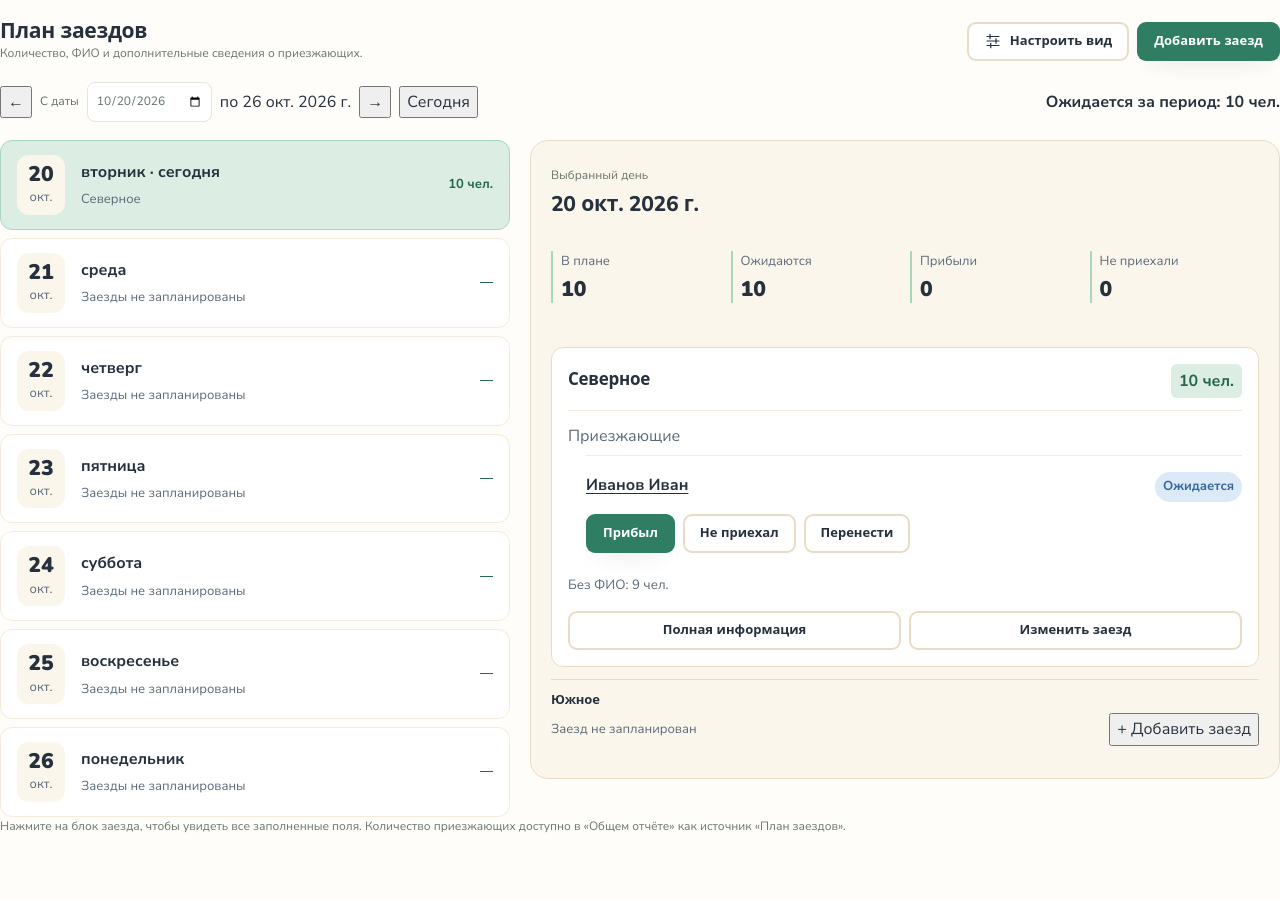
Test: следует за датой заезда при сохранении за пределами текущей недели
Click the button "Добавить заезд": (1209, 41) [1137,22,1279,61]
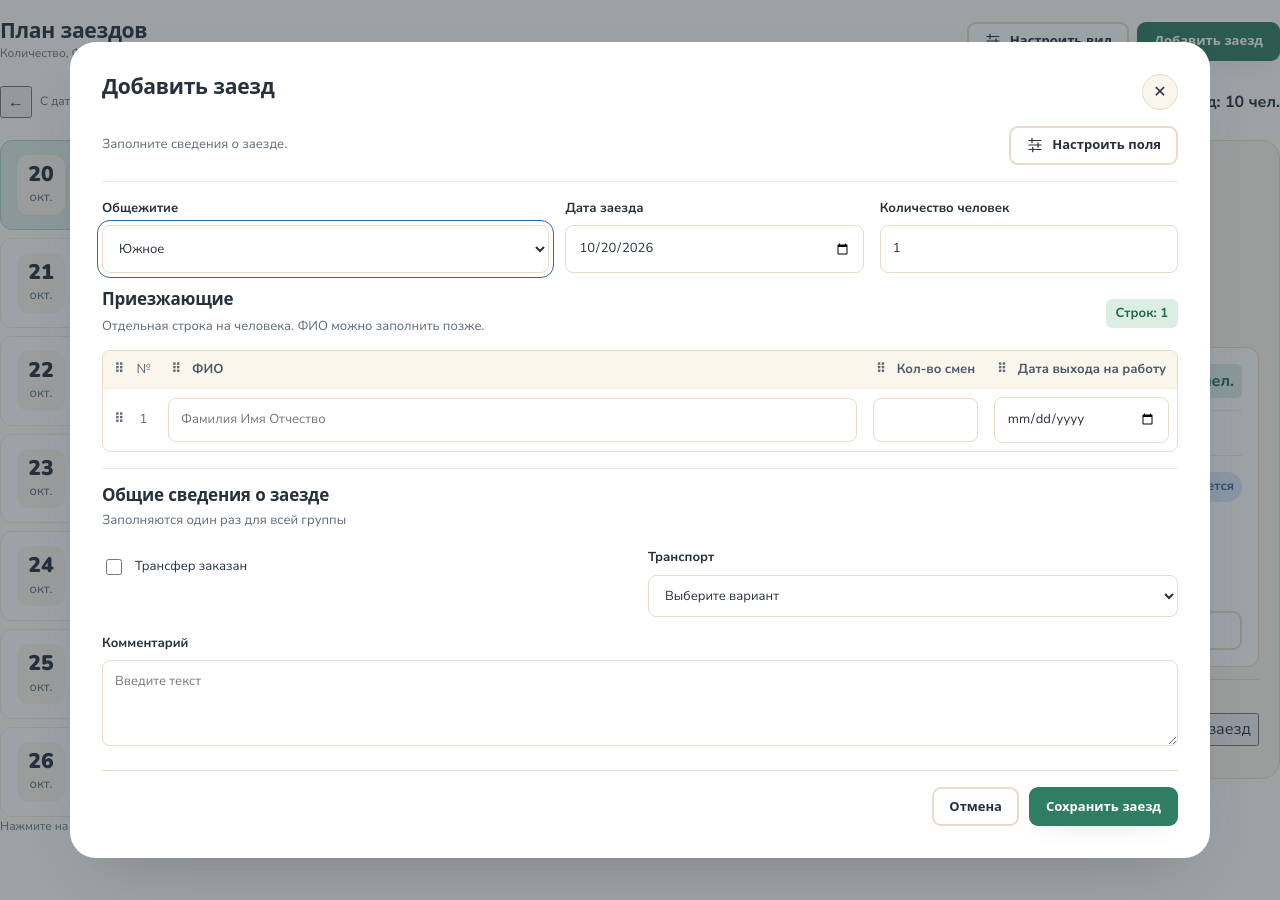
In the date field labelled "Дата заезда": (715, 249) [565,225,864,273], type "2026-11-02"
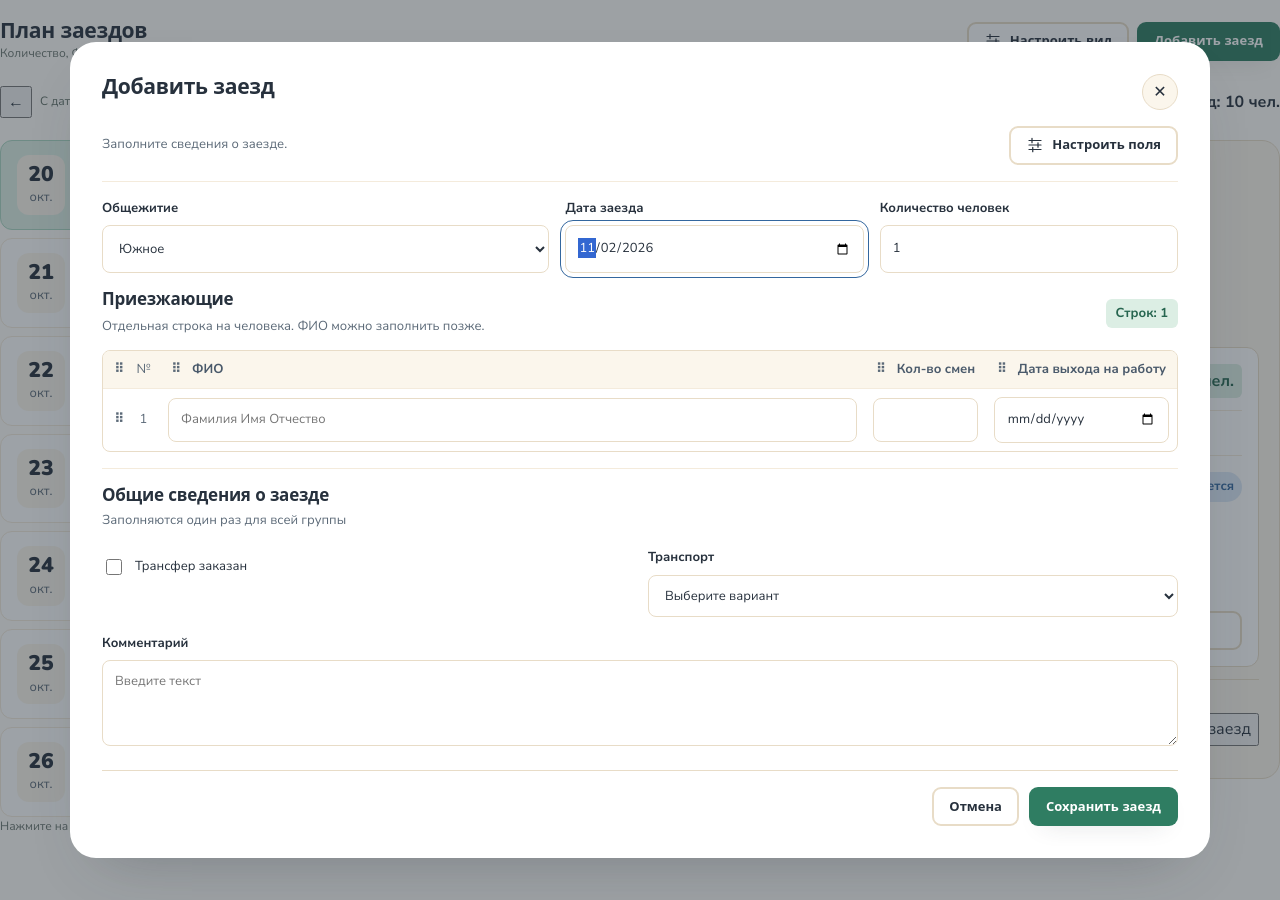
Click the button "Сохранить заезд": (1104, 807) [1029,787,1178,826]
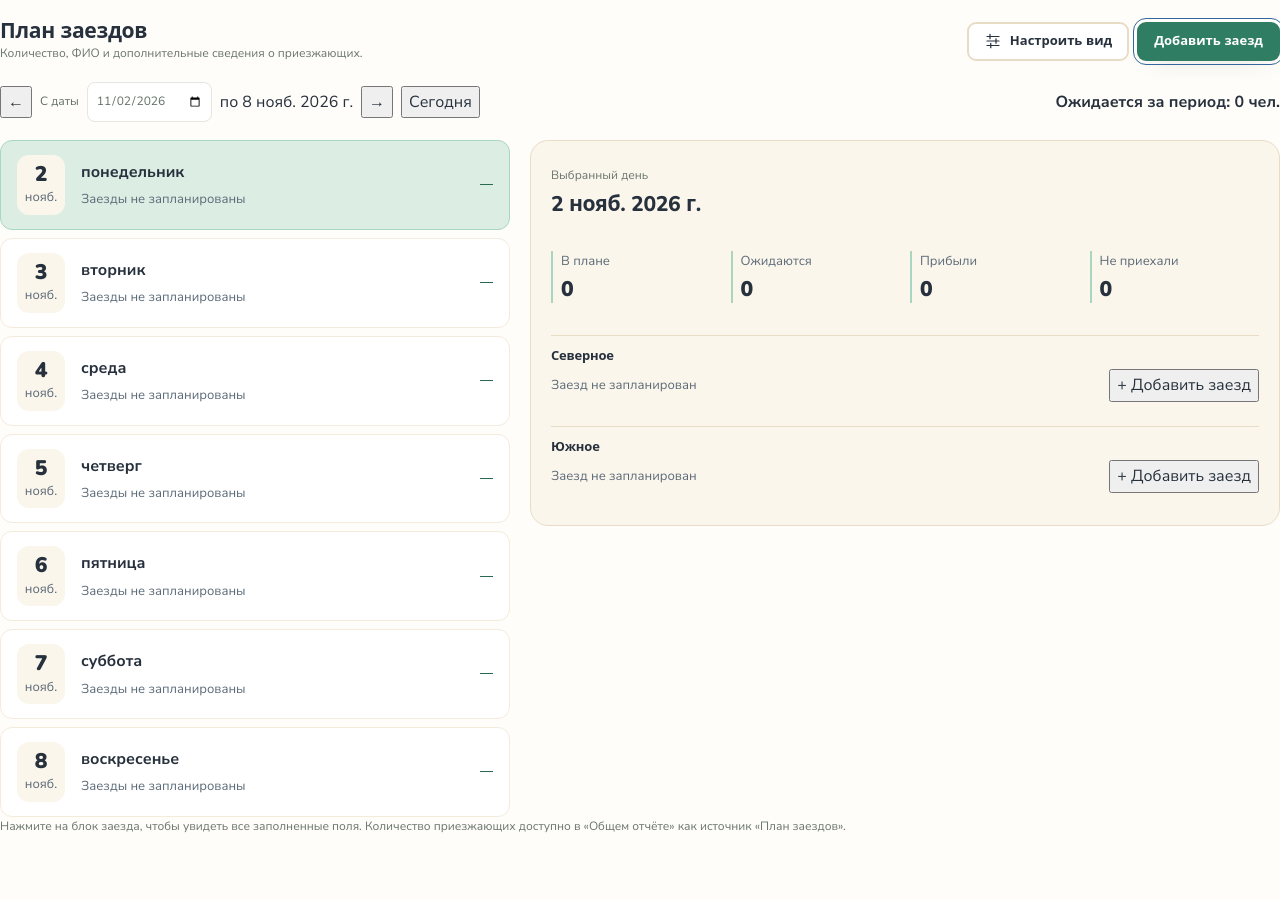
Expected: the dialog is gone
Expected: the date field named "Начало периода плана" holds "2026-11-02", [87,82,212,122]
